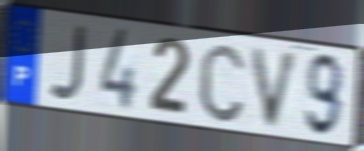2: (148, 36, 194, 119)
4: (97, 26, 140, 114)
9: (304, 50, 347, 140)
C: (196, 39, 247, 125)
J: (46, 23, 89, 104)
V: (249, 45, 303, 131)
